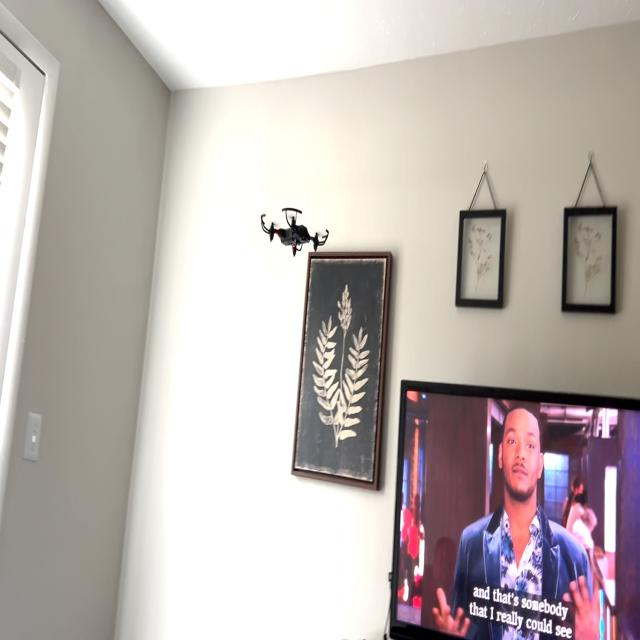drone: (252, 187, 338, 276)
